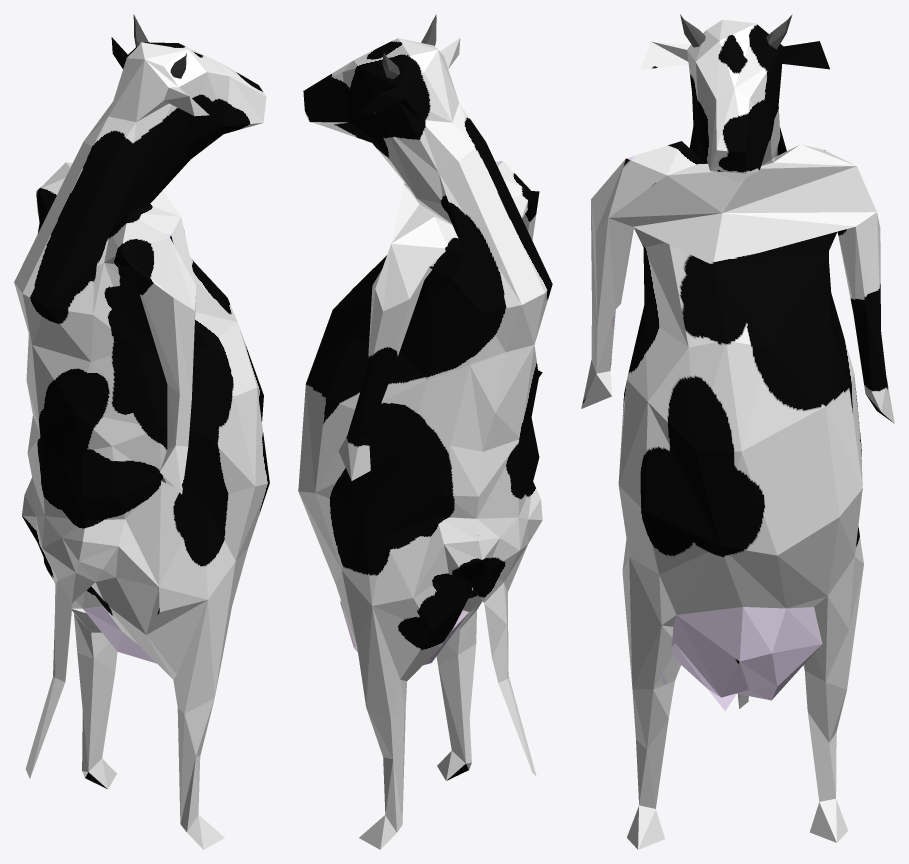
File: Cow-Stand2.fbx
3 views of the same model, side by side, from view 1: azimuth 30°, elevation 25°; view 2: azimuth 150°, elevation 25°; view 3: azimuth 270°, elevation 25° (orthographic). The views are drawn at different scales.
Parts seen in each view (by area): view 1: cow, cow.001; view 2: cow, cow.001; view 3: cow, cow.001.
Part boxes in pixels (x1=…): cow: x1=14, y1=37, x2=269, y2=849; cow.001: x1=133, y1=14, x2=186, y2=78; cow: x1=298, y1=38, x2=552, y2=849; cow.001: x1=382, y1=14, x2=436, y2=79; cow: x1=581, y1=19, x2=894, y2=849; cow.001: x1=680, y1=14, x2=792, y2=49.
Size of the model in its own units: 130 by 402 by 138.
2 materials, 1 textured.
